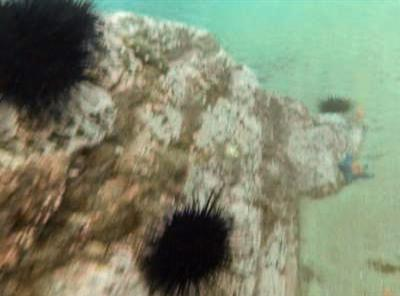urchin: (0, 0, 107, 114), (137, 199, 230, 296), (318, 93, 353, 115)
